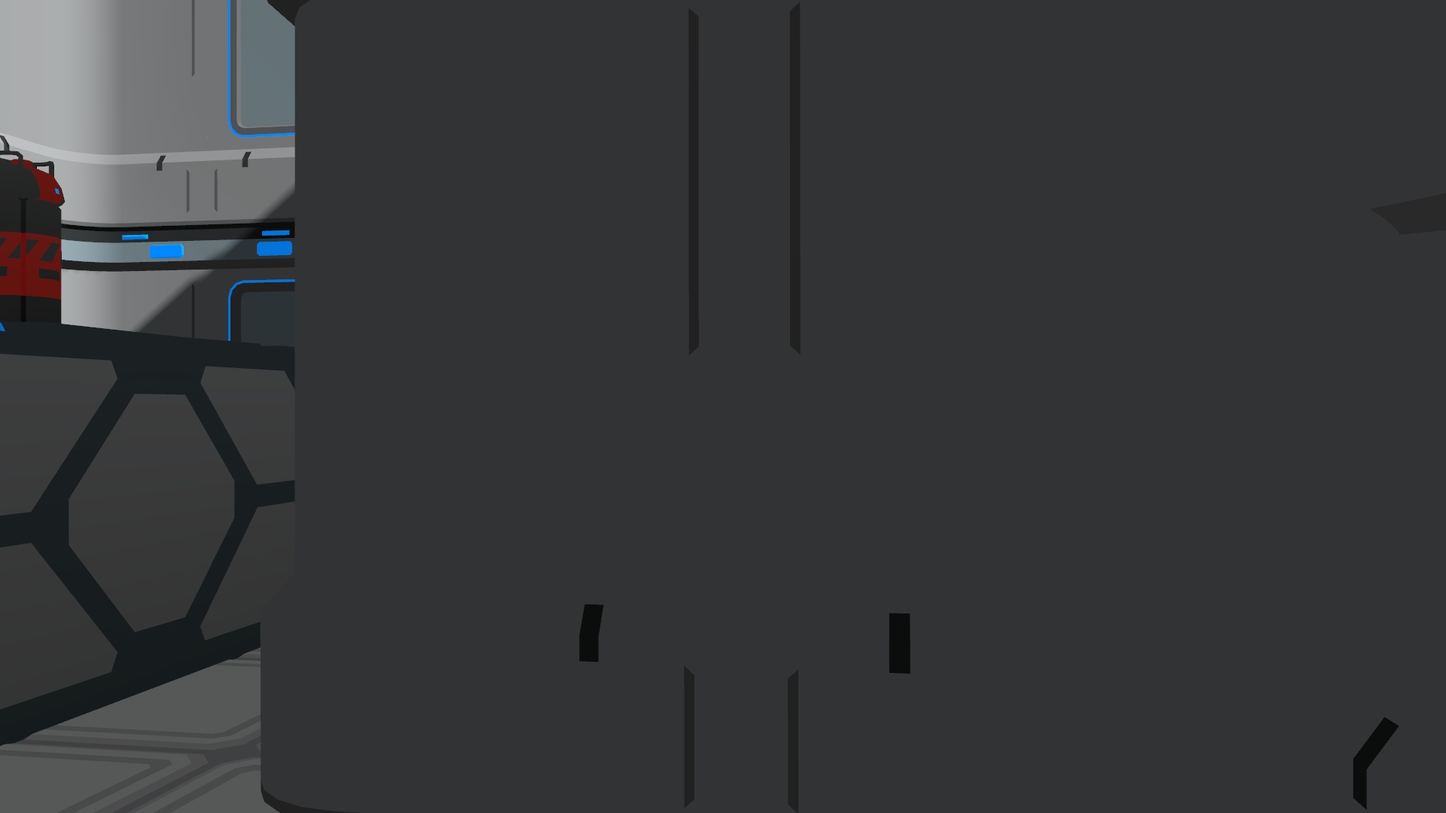red_barrel: (0, 144, 70, 330)
